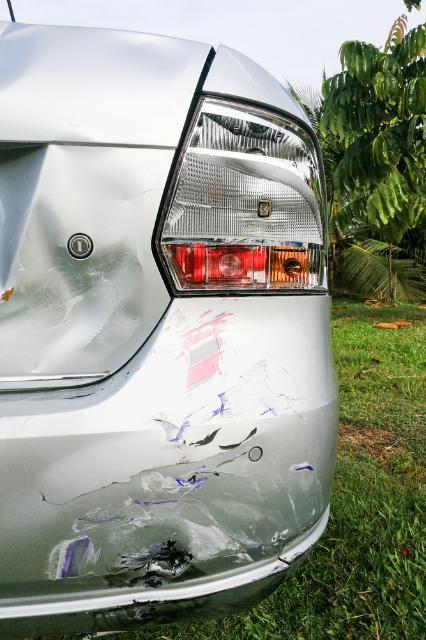crack: (41, 473, 137, 506), (278, 545, 290, 566)
dent: (0, 137, 146, 380), (0, 21, 191, 92)
scratch: (37, 304, 329, 589), (87, 563, 289, 626)
